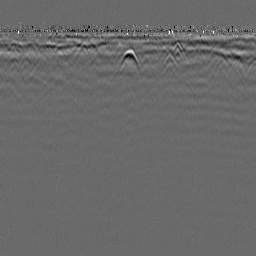cavity: (118, 46, 140, 71)
